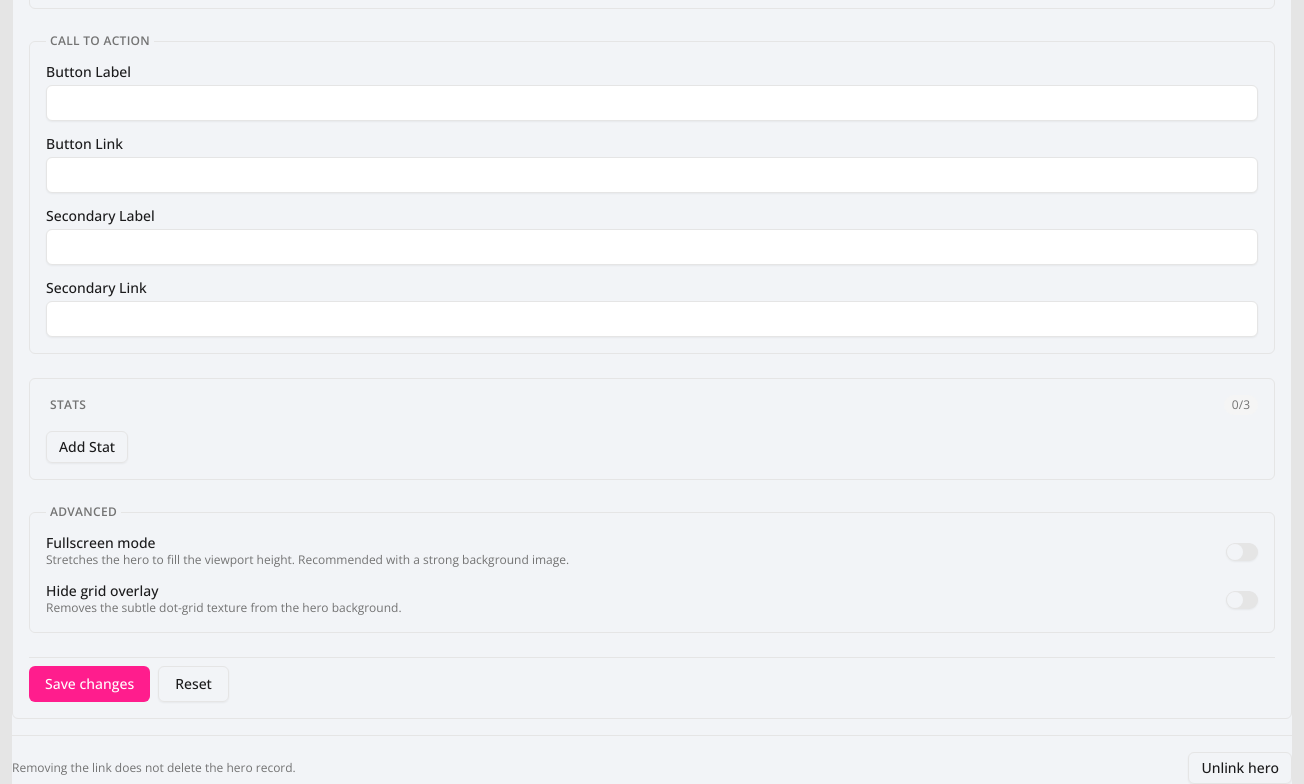
Test: HeroPicker — when a hero is already linked › shows error when unlink PATCH returns 500
(page scrolled)
What coordinates should you click on to do the following:
click the button "Unlink hero"
I would click on:
 (1240, 768)
Its box is x1=1188 y1=752 x2=1292 y2=783.
(page scrolled)
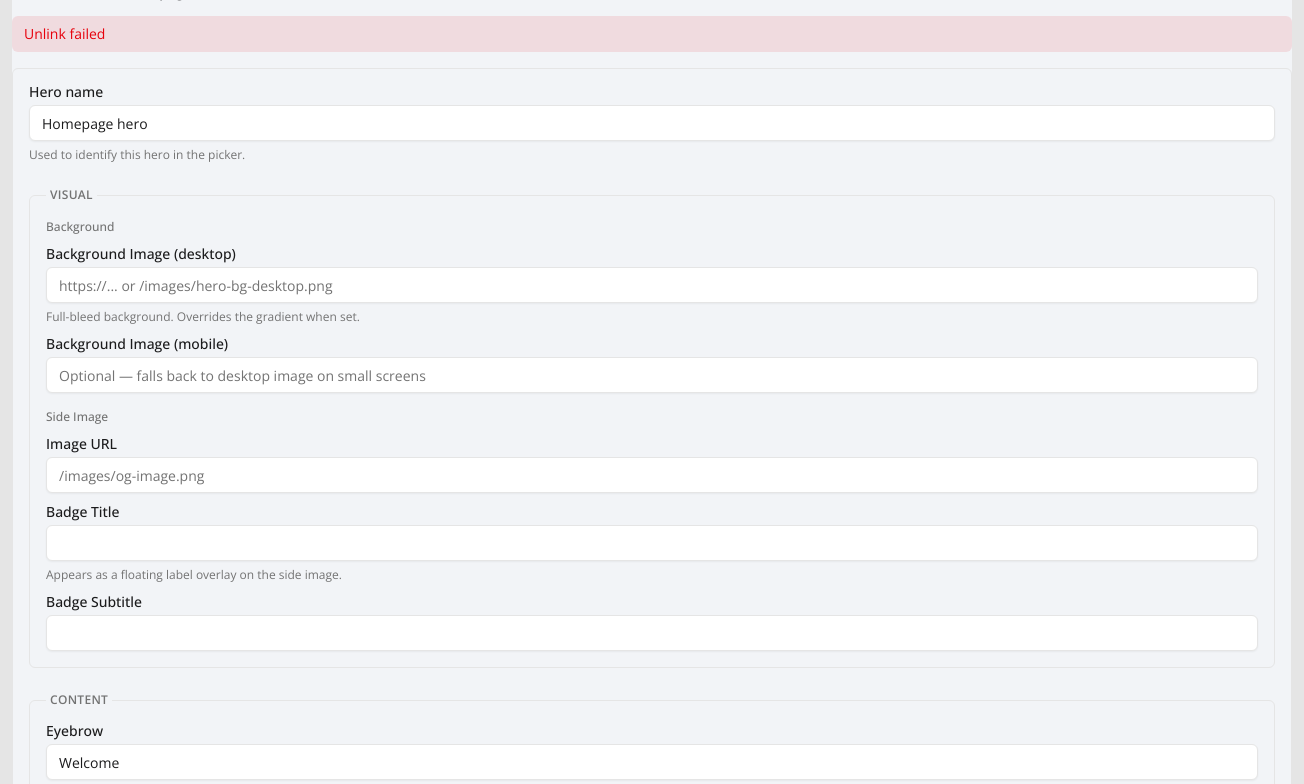
expect the text "Unlink failed" is shown: met, box x1=12 y1=16 x2=1292 y2=52
